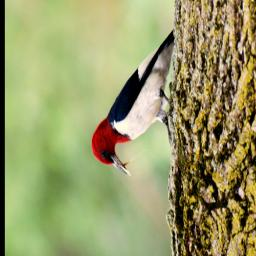Woodpecker: (90, 31, 174, 175)
